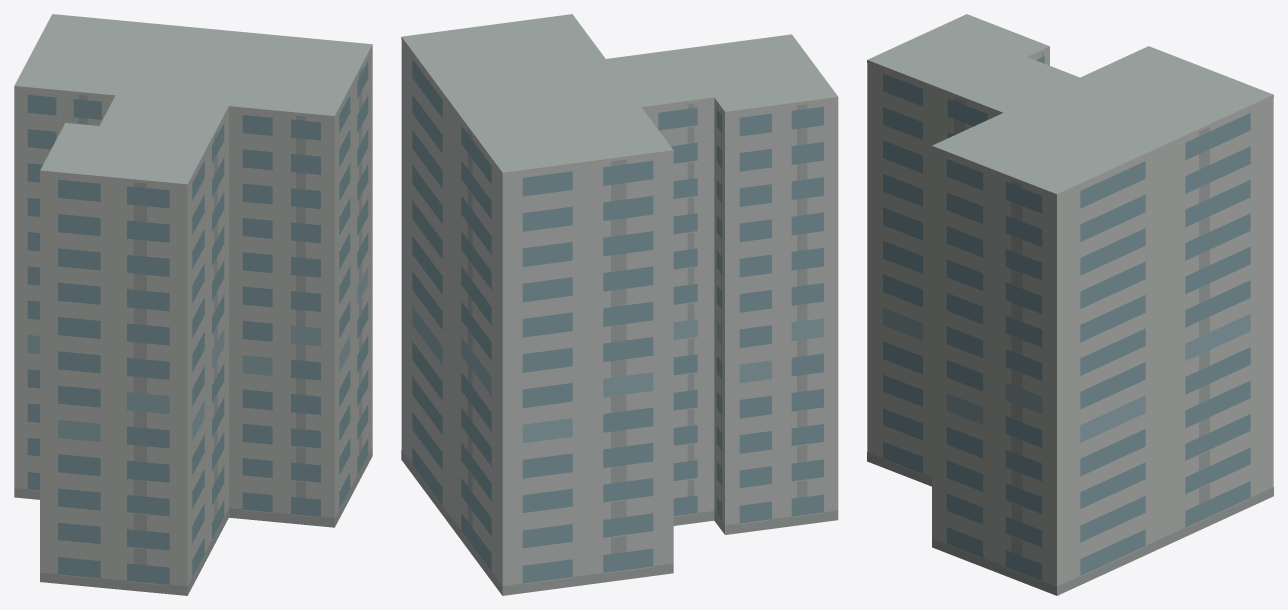
File: residential-b7cd6941-ffe6-4ad5-97dc-40db91c56a93.glb
The picture shows the model from 3 angles, left to right: view 1: azimuth 30°, elevation 25°; view 2: azimuth 150°, elevation 25°; view 3: azimuth 270°, elevation 25°; orthographic projection. The views are drawn at different scales.
Parts seen in each view (by area): view 1: residential-b7cd6941-ffe6-4ad5-97dc-40db91c56a93.tmp; view 2: residential-b7cd6941-ffe6-4ad5-97dc-40db91c56a93.tmp; view 3: residential-b7cd6941-ffe6-4ad5-97dc-40db91c56a93.tmp.
Part boxes in pixels (x1,y1,x2,y2): residential-b7cd6941-ffe6-4ad5-97dc-40db91c56a93.tmp: (14,14,372,595); residential-b7cd6941-ffe6-4ad5-97dc-40db91c56a93.tmp: (401,14,838,595); residential-b7cd6941-ffe6-4ad5-97dc-40db91c56a93.tmp: (867,14,1273,595).
Bounding box in the file's own units: 31.79 × 33 × 30.29.
